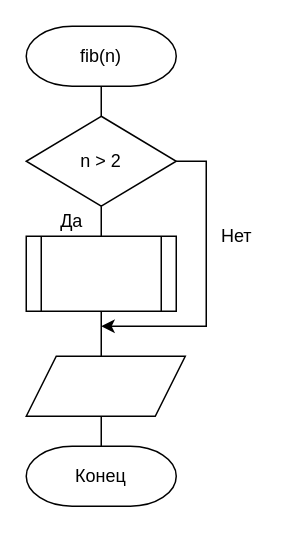
Some shapes in this 293 by 533 pixel diagram are drawn without their labels. Here are the shapes that lost their labels. From the top down, the centre of each, then its label:
At [100,273]: "num = fib(n - 1) + fib(n - 2)".
At [105,385]: "вывод num".
